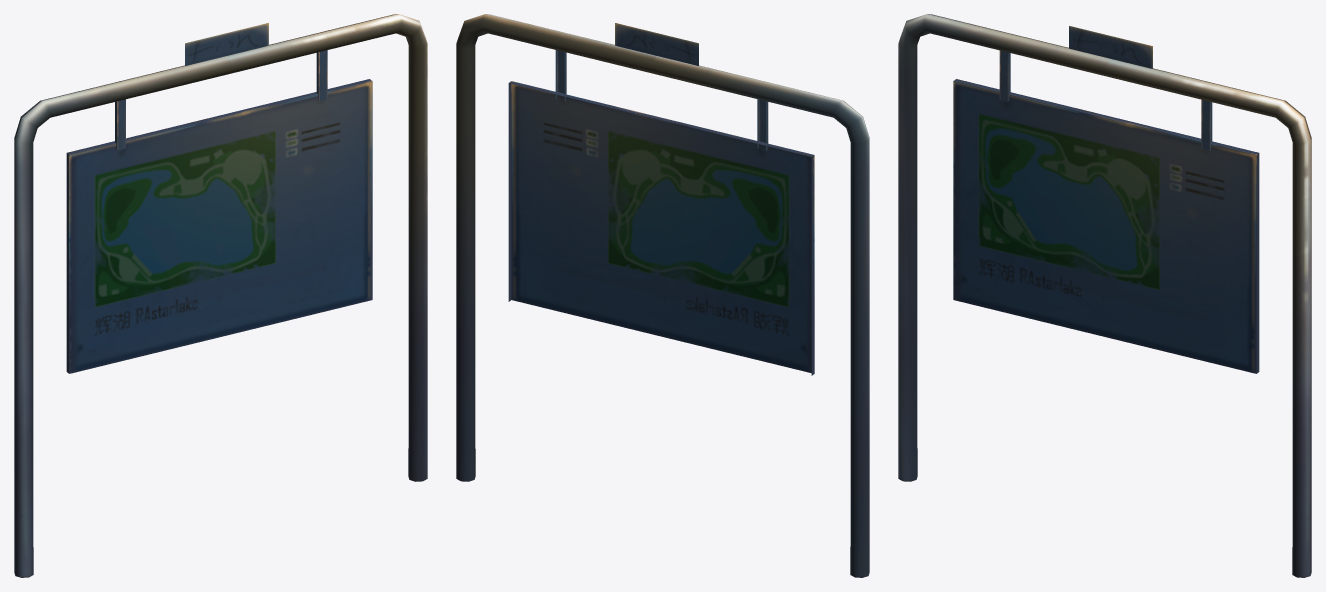
The model's file is HuBian_NightPaizi_fbx.FBX.
3 views of the same model, side by side, from view 1: azimuth 30°, elevation 25°; view 2: azimuth 150°, elevation 25°; view 3: azimuth 330°, elevation 25° (orthographic).
Visible parts, largest first — view 1: Object004; view 2: Object004; view 3: Object004.
Part boxes in pixels (<box>): Object004: <box>14,14,427,577</box>; Object004: <box>456,14,869,577</box>; Object004: <box>898,14,1311,577</box>.
Bounding box in the file's own units: 1.35 × 1.54 × 0.056.
